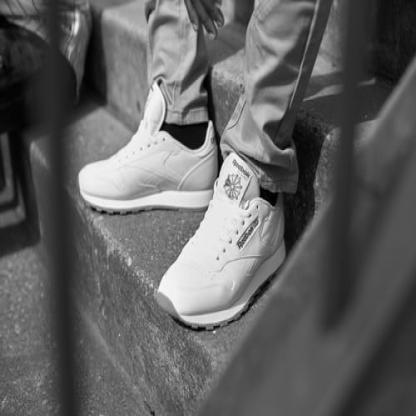ankle: (170, 122, 176, 129), (264, 197, 268, 205)
heel: (278, 242, 281, 249), (206, 180, 209, 182)
left_foot: (158, 185, 287, 327)
pinky: (90, 164, 93, 167), (192, 301, 195, 304)
right_foot: (79, 105, 219, 209)
toe: (166, 275, 171, 279), (91, 178, 94, 184)
